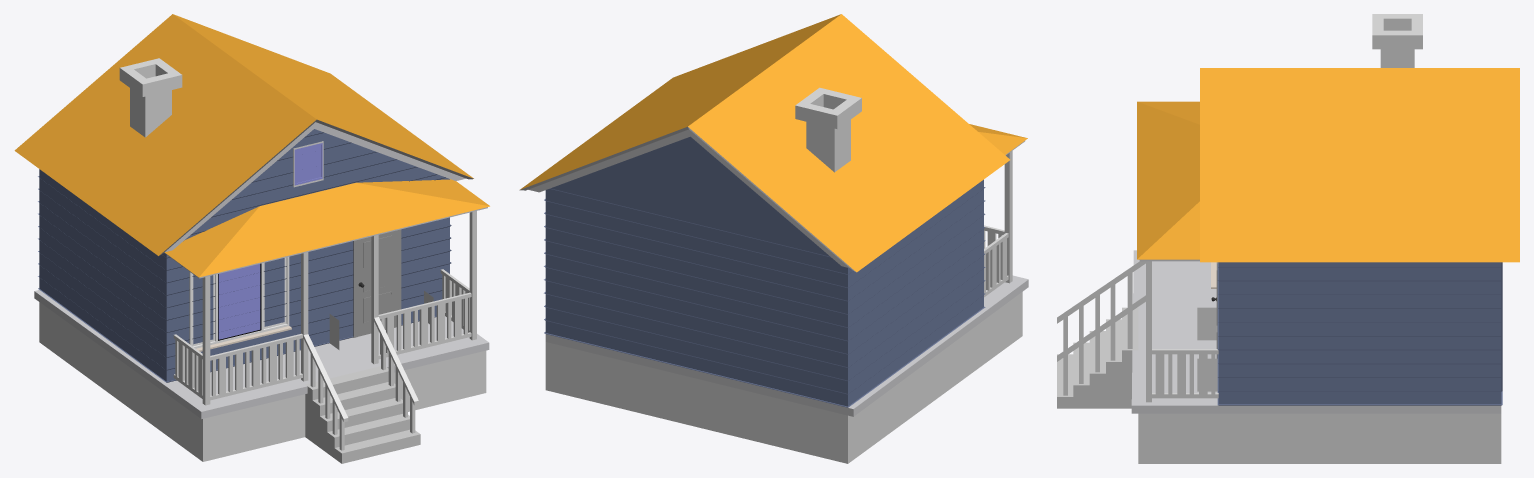
The model's file is House 2.fbx.
The picture shows the model from 3 angles, left to right: view 1: azimuth 30°, elevation 25°; view 2: azimuth 150°, elevation 25°; view 3: azimuth 270°, elevation 25°; orthographic projection. The views are drawn at different scales.
Visible parts, largest first — view 1: Cube.001, Cube, Cube.002, Cube.003, Cube.004, Window, Cube.005, Door, Cube.006, Cube.010, Window.R, Cube.018 (+3 smaller); view 2: Cube.001, Cube, Cube.005, Cube.003, Cube.002, Cube.014; view 3: Cube.001, Cube, Cube.002, Cube.004, Cube.006, Cube.005, Cube.010, CTRL_Baseboard, Cube.003.
Boxes of the visible parts, <box> form: Cube.001: <box>14,14,473,382</box>; Cube: <box>34,290,489,461</box>; Cube.002: <box>164,179,489,278</box>; Cube.003: <box>202,211,476,405</box>; Cube.004: <box>305,366,420,463</box>; Window: <box>189,257,291,351</box>; Cube.005: <box>119,58,182,137</box>; Door: <box>357,230,397,336</box>; Cube.006: <box>303,317,418,450</box>; Cube.010: <box>173,269,469,398</box>; Window.R: <box>294,143,322,185</box>; Cube.018: <box>218,342,293,394</box>; Cube.001: <box>519,14,1010,407</box>; Cube: <box>545,275,1028,463</box>; Cube.005: <box>795,87,861,172</box>; Cube.003: <box>984,151,1012,283</box>; Cube.002: <box>969,124,1027,155</box>; Cube.014: <box>984,238,1006,293</box>; Cube.001: <box>1200,68,1519,405</box>; Cube: <box>1131,250,1501,463</box>; Cube.002: <box>1137,101,1199,261</box>; Cube.004: <box>1057,307,1138,408</box>; Cube.006: <box>1057,261,1145,395</box>; Cube.005: <box>1372,14,1422,67</box>; Cube.010: <box>1152,349,1218,398</box>; CTRL_Baseboard: <box>1197,307,1217,391</box>; Cube.003: <box>1146,261,1151,402</box>.
Size of the model in its own units: 335 by 297 by 383.
